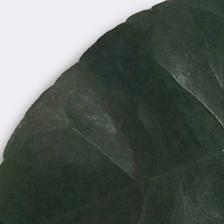healthy: (7, 2, 224, 224)
